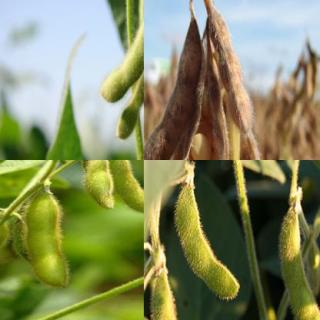soya: (144, 17, 201, 159), (175, 190, 240, 301), (209, 10, 251, 130), (278, 210, 319, 319), (100, 5, 143, 104), (26, 196, 70, 287), (150, 274, 199, 319), (115, 72, 143, 142), (109, 160, 143, 215), (84, 160, 118, 209), (241, 133, 284, 159)
